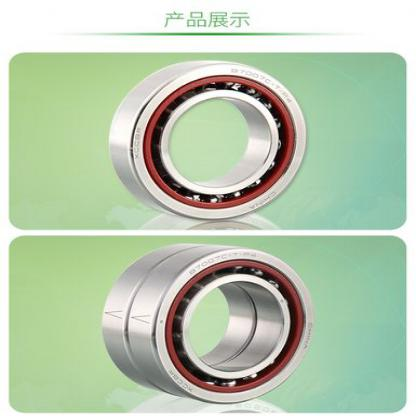FOD: (98, 239, 314, 407), (106, 57, 313, 223)
